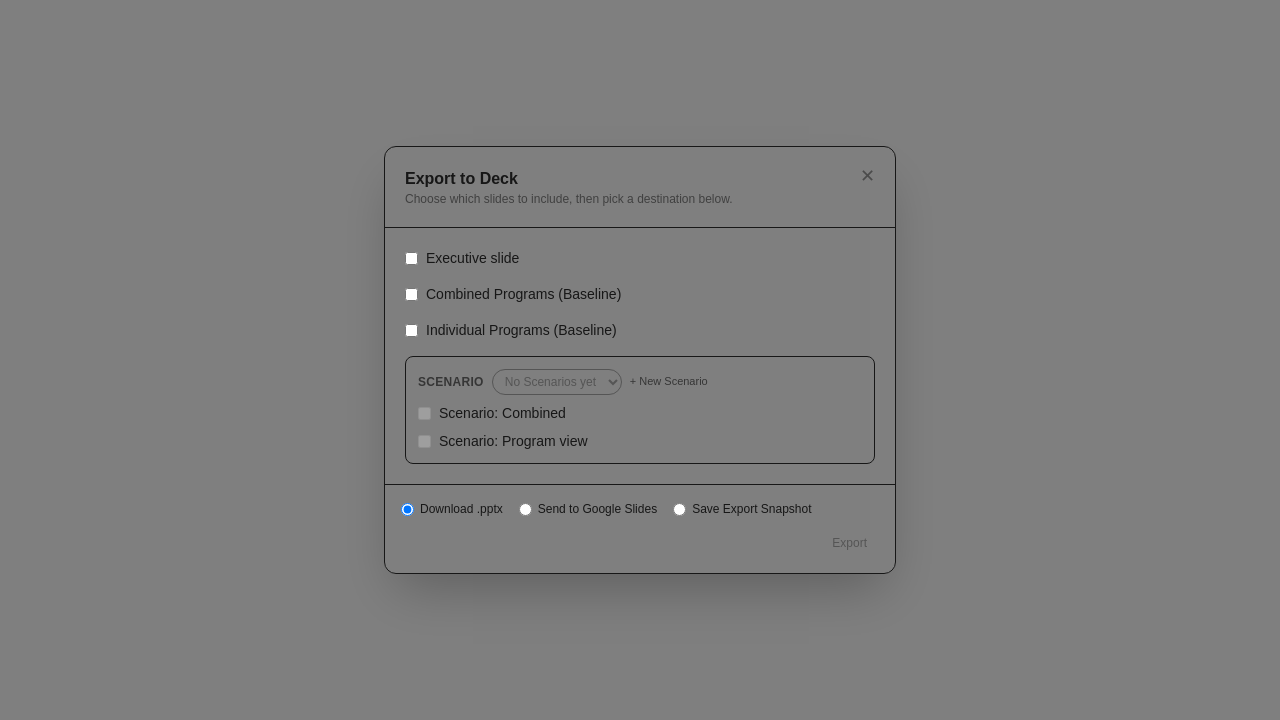
Test: ExportDialog (t29/t30) › reveals the Program multi-select only once Individual Programs (Baseline) is checked
Expected: the checkbox labelled "Atlas Program" is not shown
Click the checkbox labelled "Individual Programs (Baseline)": (412, 330) [405,324,418,336]
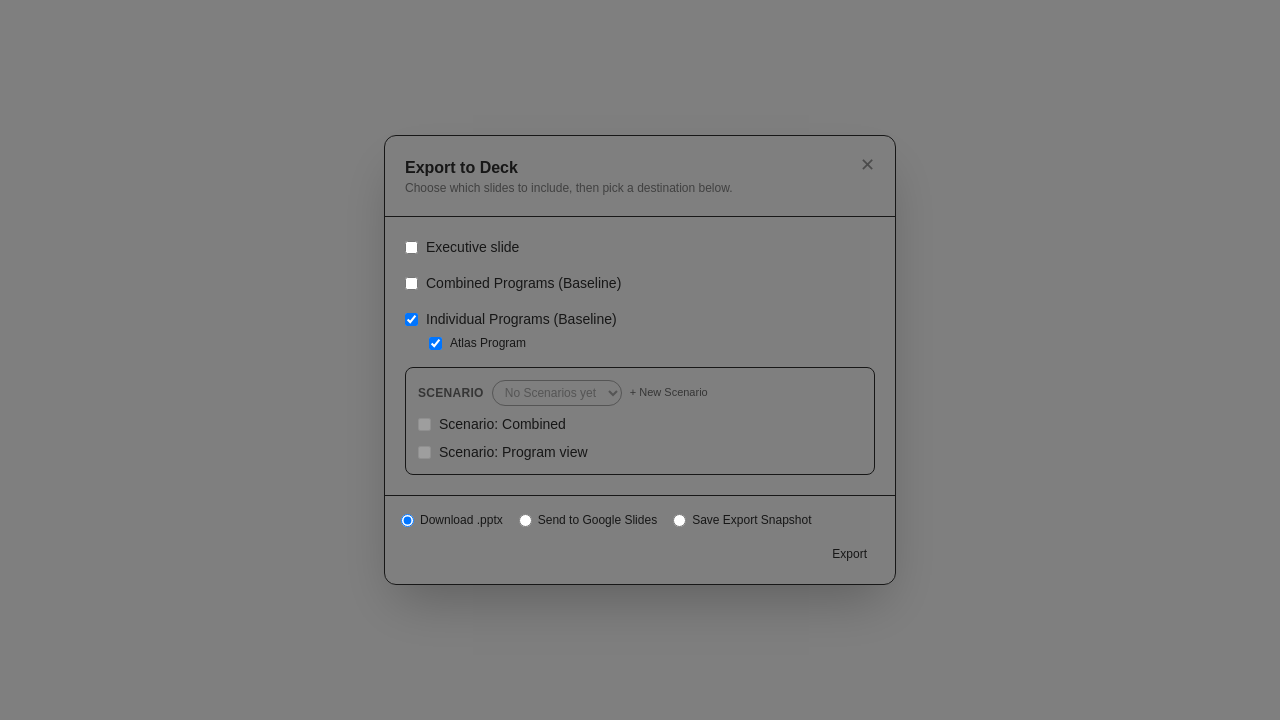
Expected: the checkbox labelled "Atlas Program" is shown, [429,336,442,350]
